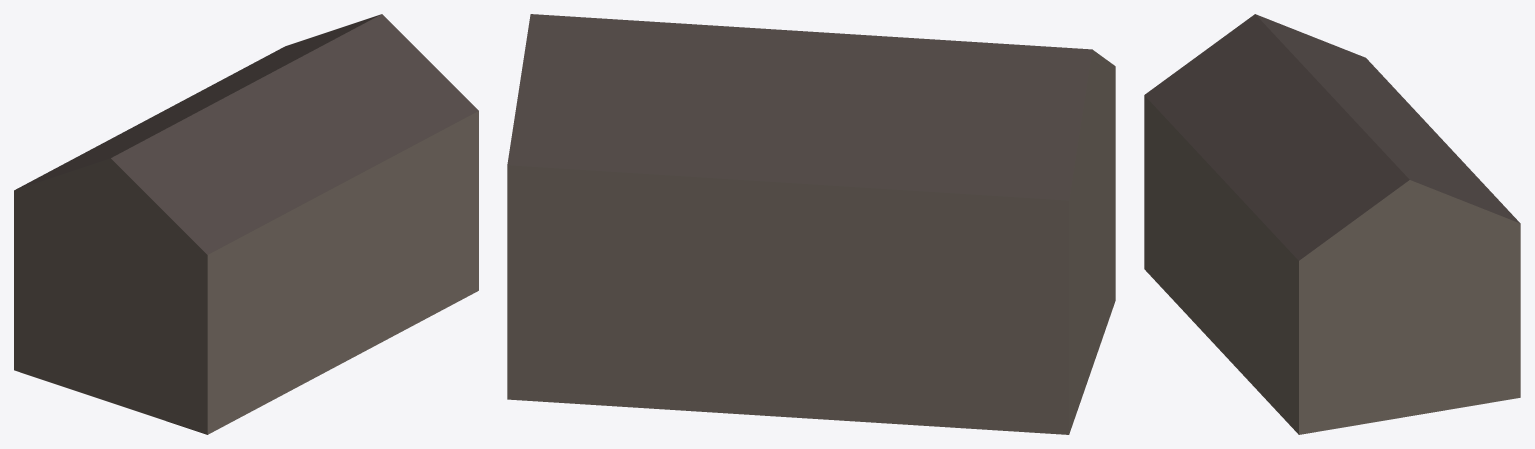
3 views of the same model, side by side, from view 1: azimuth 30°, elevation 25°; view 2: azimuth 150°, elevation 25°; view 3: azimuth 270°, elevation 25° (orthographic). The views are drawn at different scales.
Parts seen in each view (by area): view 1: HP-w859082453; view 2: HP-w859082453; view 3: HP-w859082453.
Boxes of the visible parts, x1=… form: HP-w859082453: x1=14, y1=14, x2=478, y2=434; HP-w859082453: x1=507, y1=14, x2=1115, y2=434; HP-w859082453: x1=1144, y1=14, x2=1520, y2=434.
Bounding box in the file's own units: 15.02 × 8.15 × 11.76.
